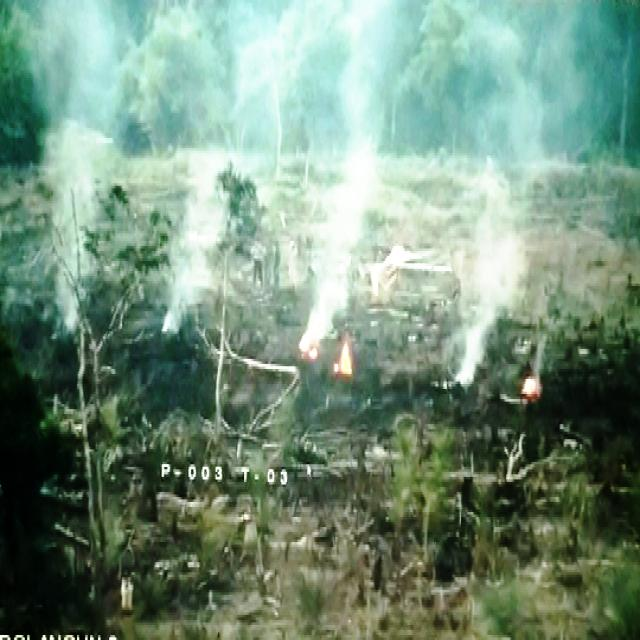asap: (427, 9, 526, 400), (27, 1, 121, 360), (296, 9, 382, 388), (154, 144, 228, 365)
